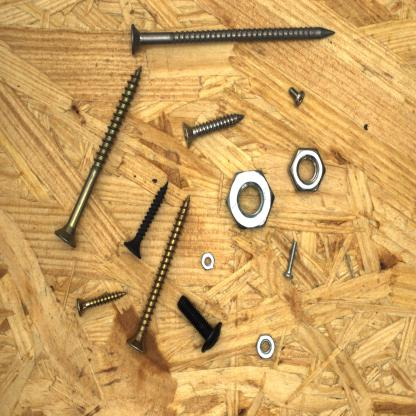screw: (53, 64, 143, 251), (124, 192, 193, 356), (130, 21, 335, 57), (121, 178, 170, 261), (175, 294, 225, 354), (180, 110, 247, 152), (75, 286, 130, 318), (282, 238, 300, 281), (287, 83, 307, 110)
